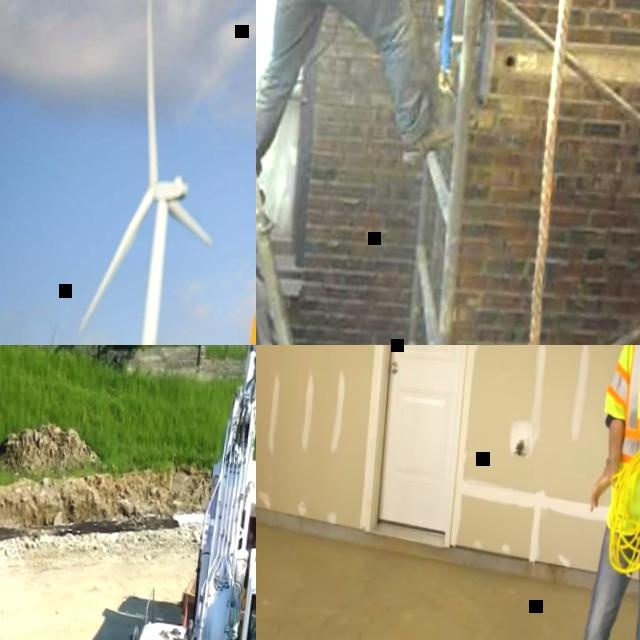Person: (256, 0, 500, 236), (546, 345, 640, 640)
machinery: (86, 345, 256, 640)
